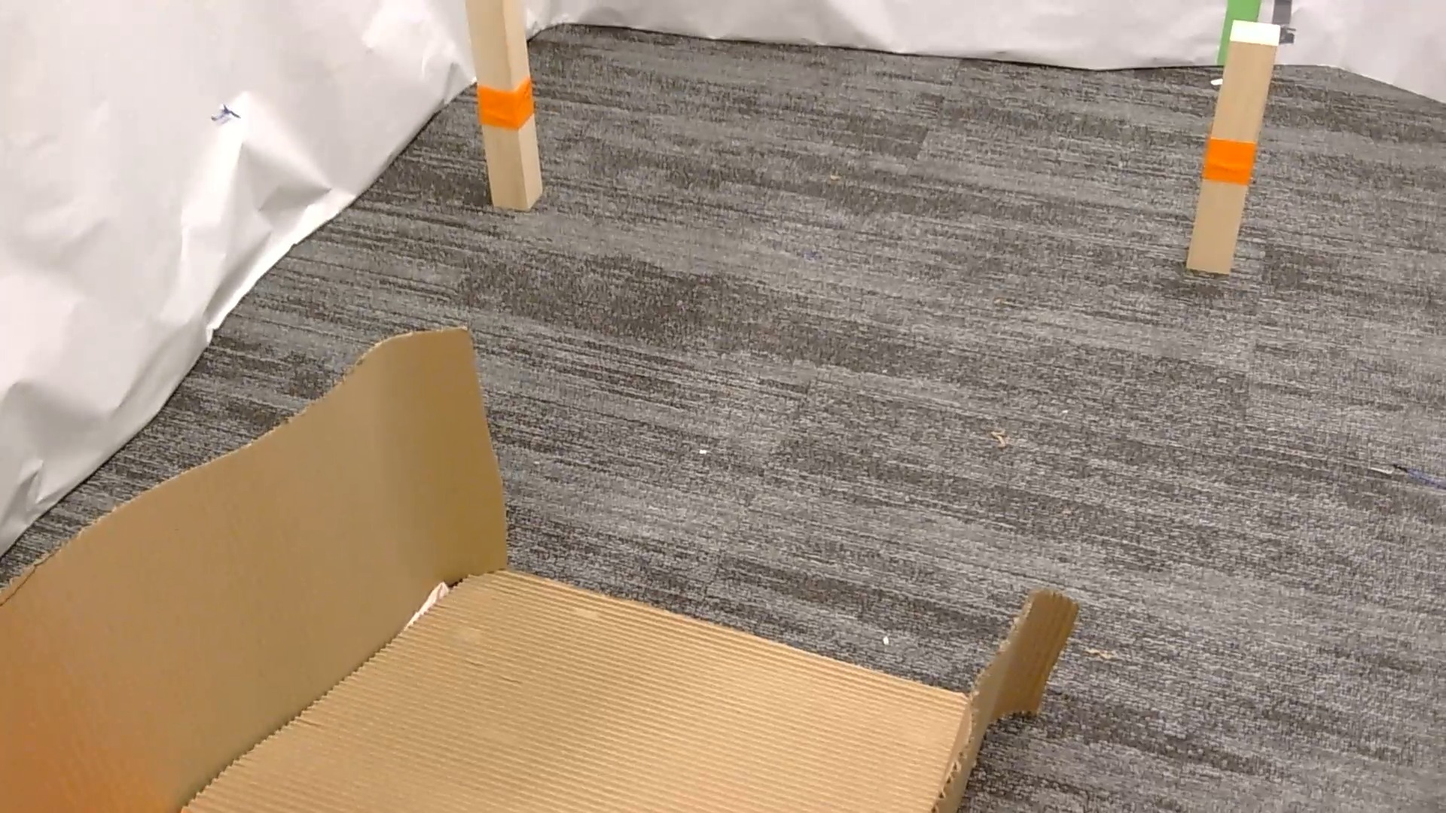Ramp: (0, 328, 1077, 812)
Wooden Block: (1186, 20, 1282, 274), (465, 0, 541, 210)
